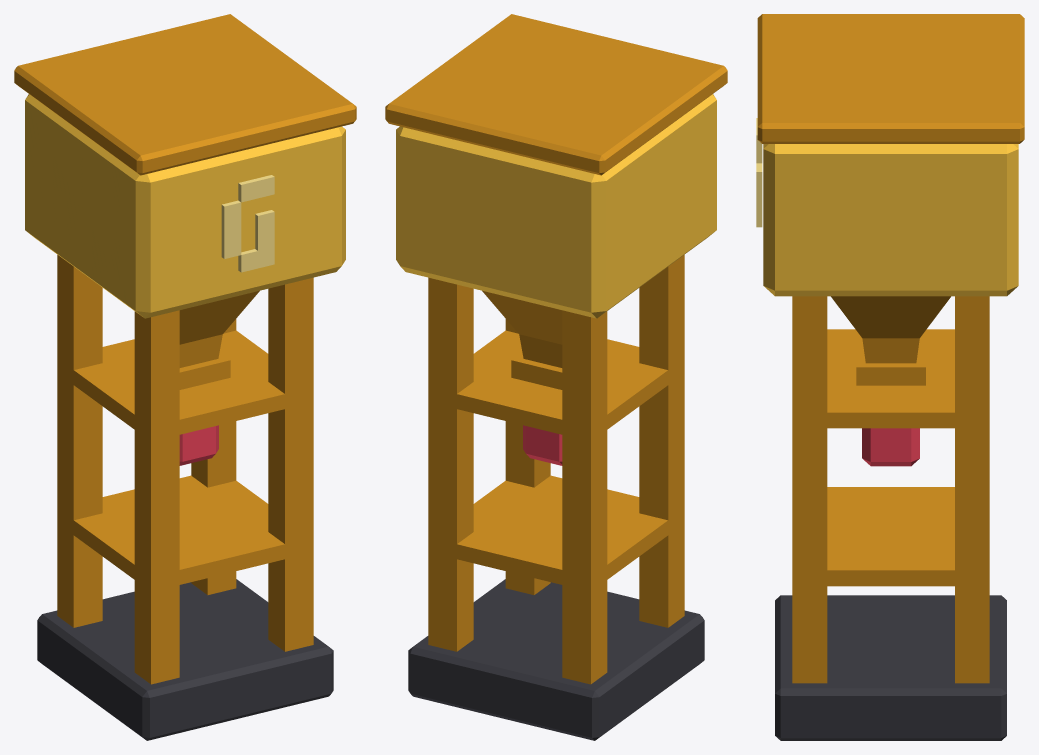
The model's file is GoldDropper.fbx.
3 views of the same model, side by side, from view 1: azimuth 30°, elevation 25°; view 2: azimuth 150°, elevation 25°; view 3: azimuth 270°, elevation 25° (orthographic). The views are drawn at different scales.
Visible parts, largest first — view 1: GoldDropper, GoldDropper_Ore; view 2: GoldDropper, GoldDropper_Ore; view 3: GoldDropper, GoldDropper_Ore.
Part boxes in pixels (box(x1,y1,x2,y2)): GoldDropper: box(14, 14, 356, 740); GoldDropper_Ore: box(179, 425, 218, 465); GoldDropper: box(385, 14, 727, 740); GoldDropper_Ore: box(523, 425, 562, 465); GoldDropper: box(756, 14, 1024, 740); GoldDropper_Ore: box(862, 428, 919, 466).
Size of the model in its own units: 4.6 by 11.9 by 4.62.
1 material, 1 textured.
